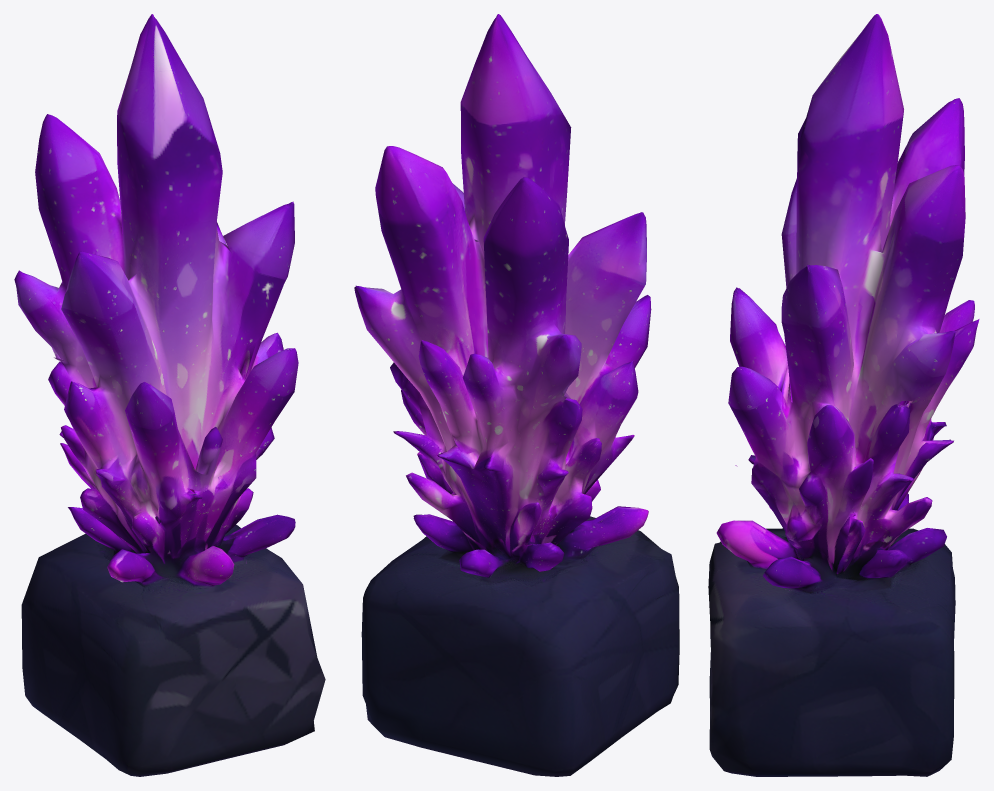
Rendered from z2_crystal.glb.
The picture shows the model from 3 angles, left to right: view 1: azimuth 30°, elevation 25°; view 2: azimuth 150°, elevation 25°; view 3: azimuth 270°, elevation 25°; orthographic projection. The views are drawn at different scales.
Size of the model in its own units: 0.6653 by 1.91 by 0.6524.
Materials: 1 (1 with a texture image).
